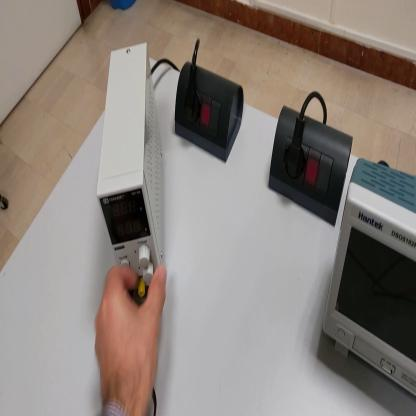hand: (95, 261, 167, 414)
oscilloscope: (322, 144, 416, 398)
power supply: (97, 40, 164, 283)
socket: (271, 103, 355, 228), (172, 58, 246, 165)
